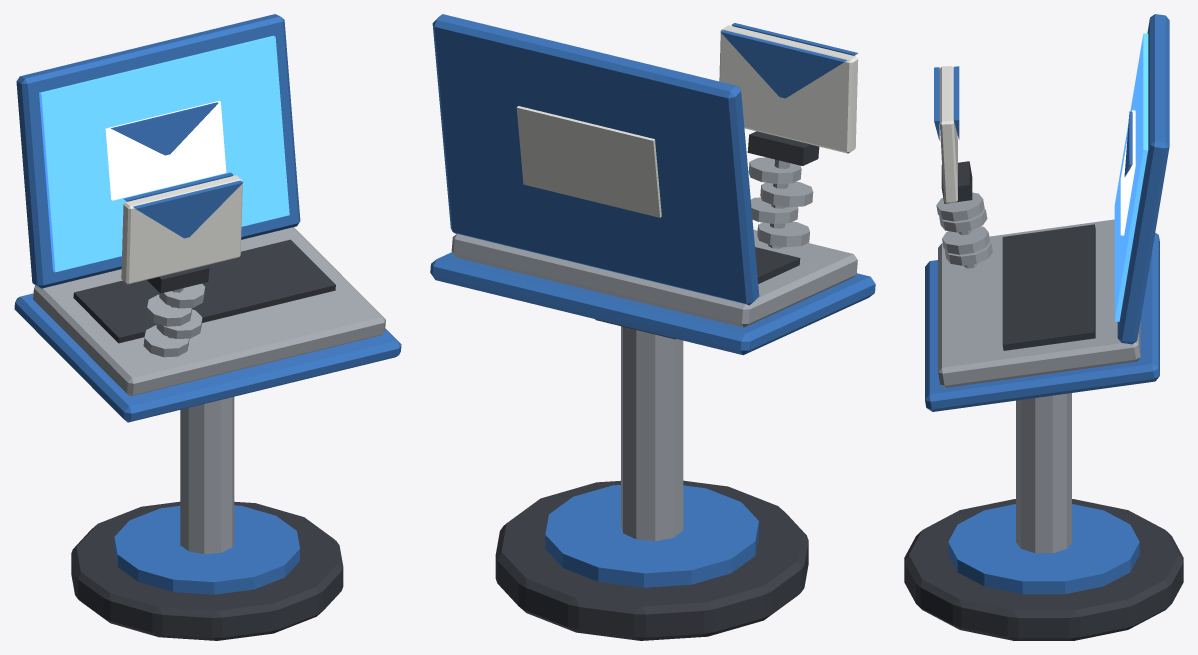
The model's file is autoreply_core.glb.
The picture shows the model from 3 angles, left to right: view 1: azimuth 30°, elevation 25°; view 2: azimuth 150°, elevation 25°; view 3: azimuth 270°, elevation 25°; orthographic projection. The views are drawn at different scales.
Parts seen in each view (by area): view 1: autoreply_core_mesh; view 2: autoreply_core_mesh; view 3: autoreply_core_mesh.
Part boxes in pixels (x1,y1,x2,y2): autoreply_core_mesh: [14, 14, 401, 640]; autoreply_core_mesh: [430, 14, 875, 640]; autoreply_core_mesh: [904, 14, 1183, 640].
Bounding box in the file's own units: 0.58 × 0.995 × 0.4955.
